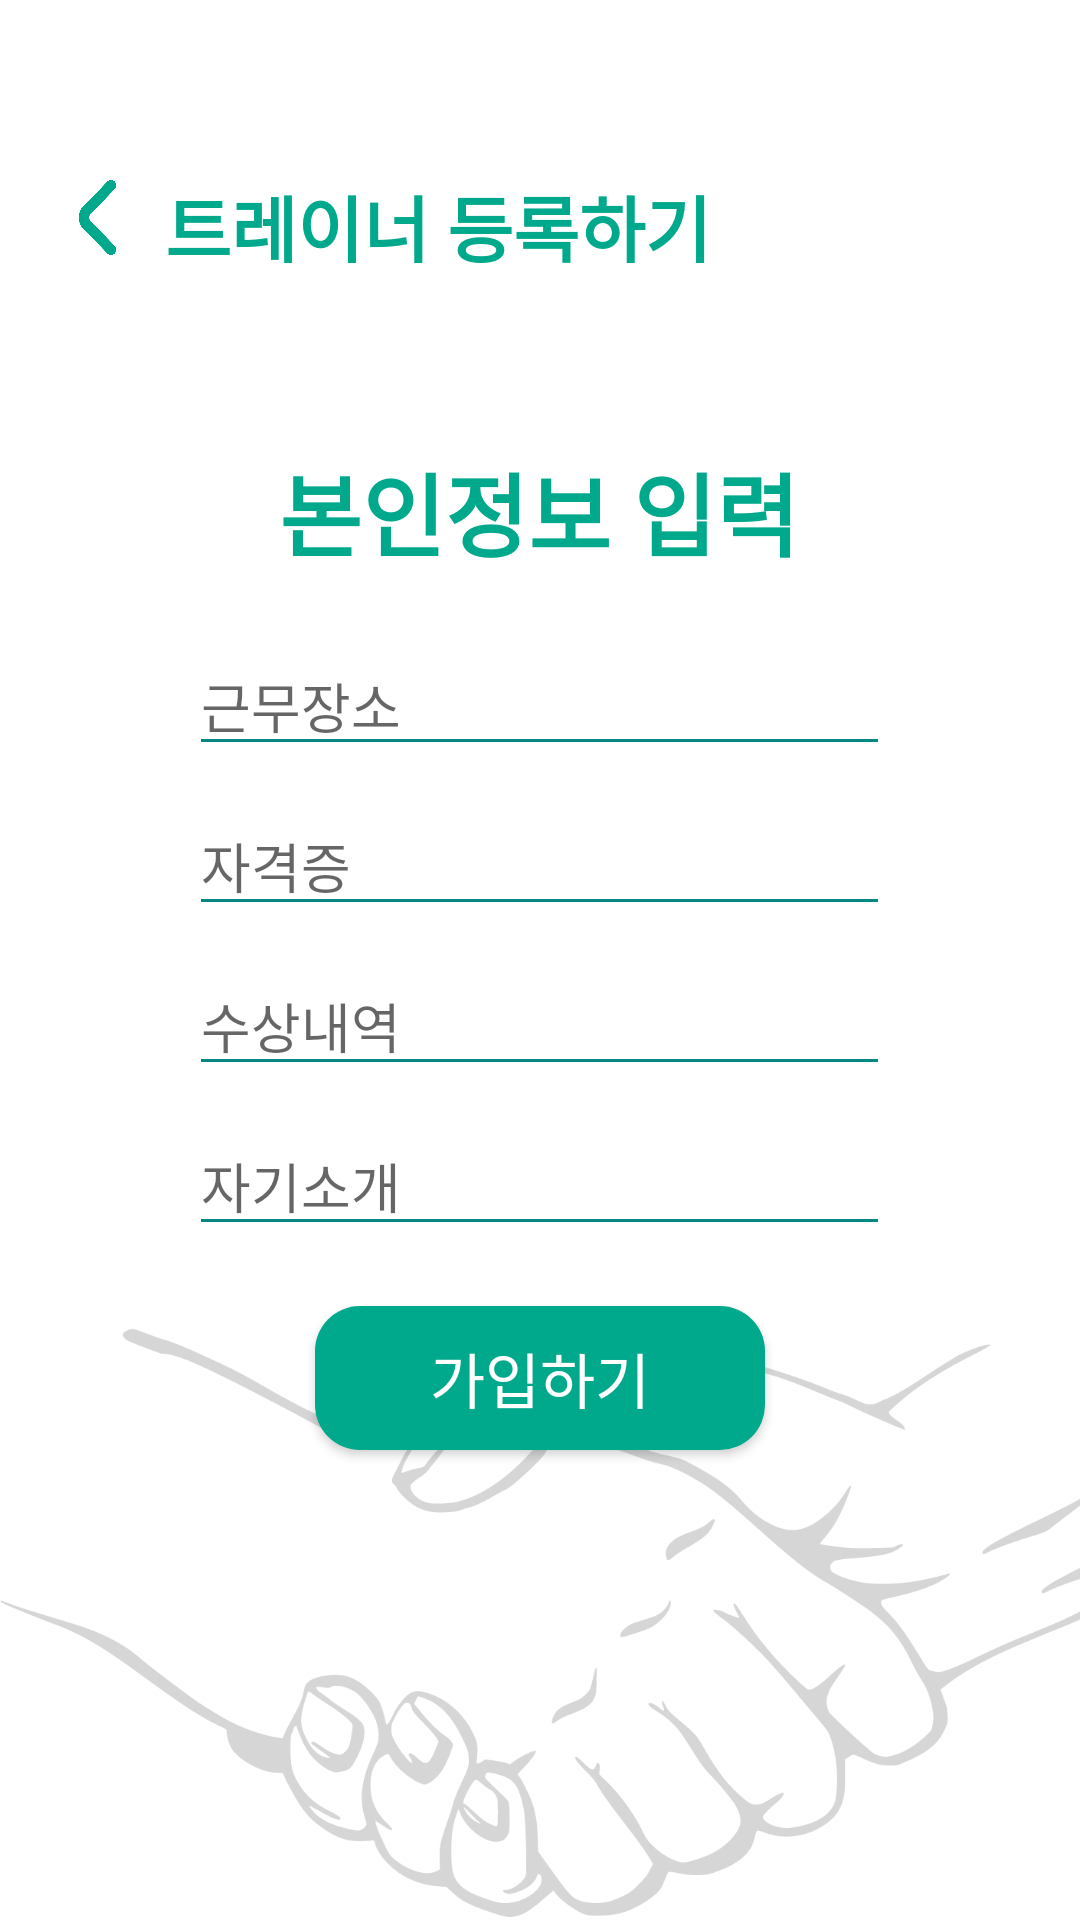

Locate icon controls on the screen. Image size 1080×1920, boxes as (x1, y1, x2, y2).
back: (79, 180, 116, 255)
